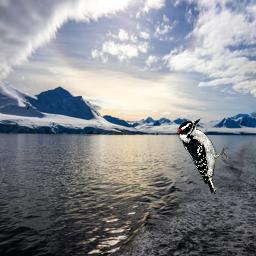Woodpecker: (177, 118, 232, 194)
